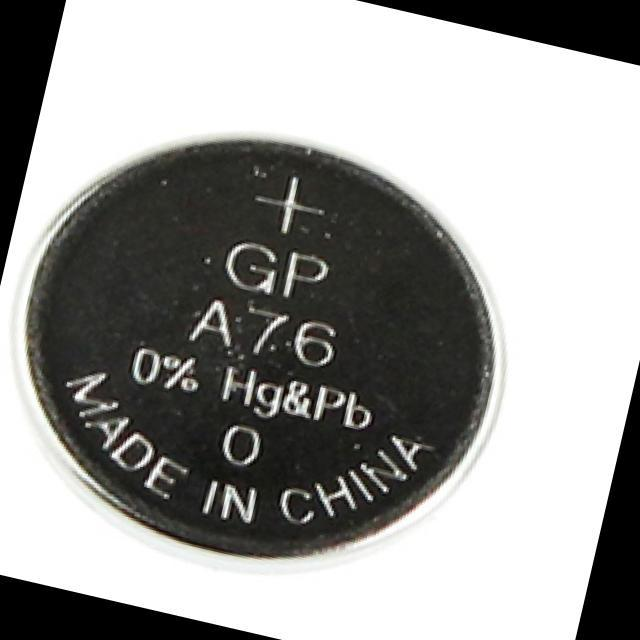COIN: (0, 84, 548, 618)
